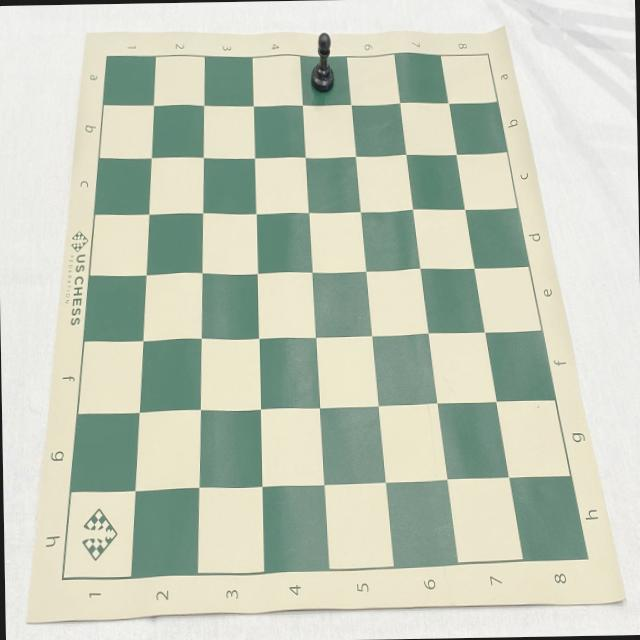black-pawn: (309, 32, 336, 94)
